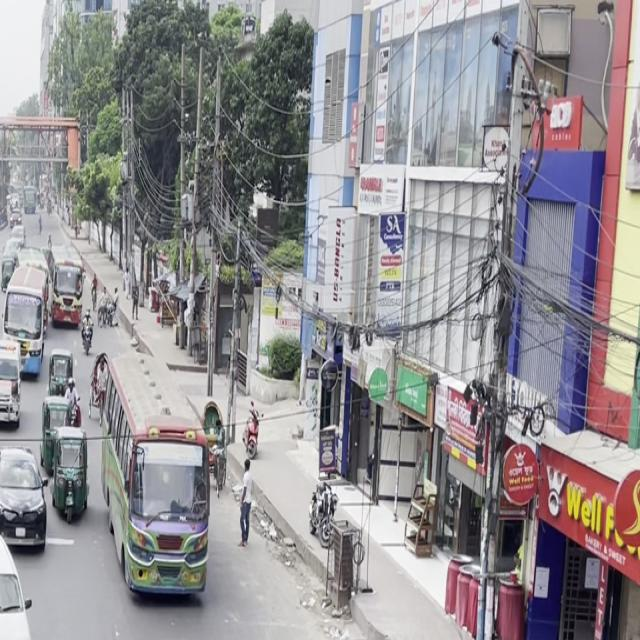bus: (93, 346, 218, 618)
car: (0, 440, 53, 561), (0, 523, 40, 640), (308, 623, 469, 640), (44, 344, 78, 414), (0, 346, 25, 432), (17, 327, 49, 385)
rickshaw: (45, 424, 92, 530)
